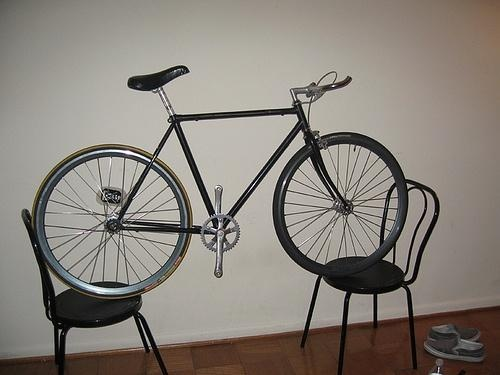bicycle: (29, 65, 410, 288)
chair: (300, 179, 441, 375), (20, 209, 170, 375)
